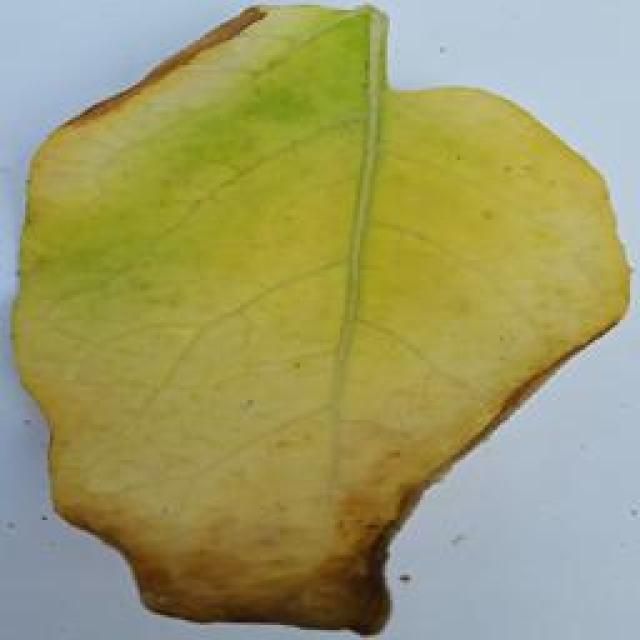Potato_Late_Blight: (12, 3, 621, 632)
